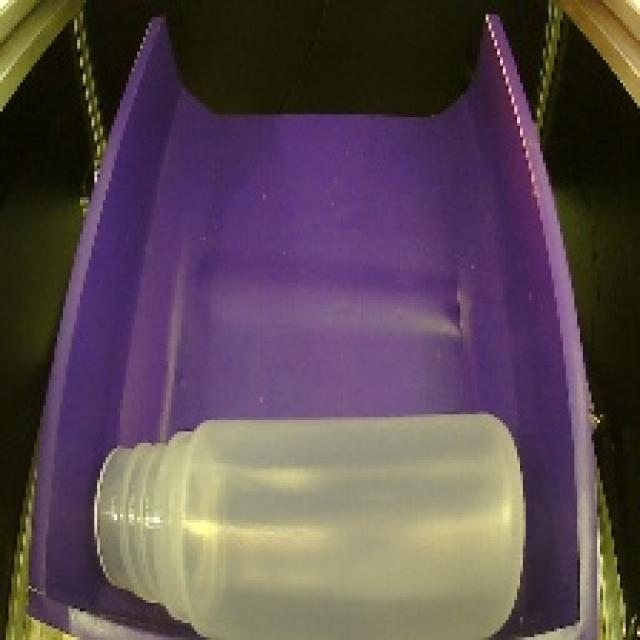plastic: (80, 400, 538, 640)
